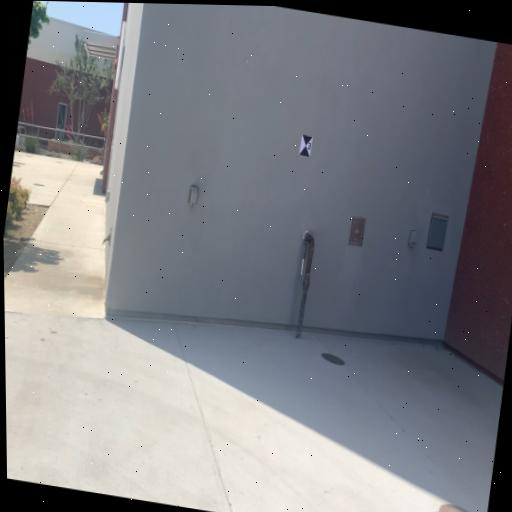target3: (299, 133, 313, 158)
